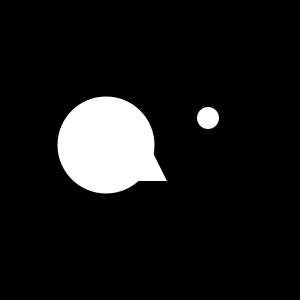rectangle: (58, 96, 154, 194), (197, 107, 219, 129)
triangle: (119, 133, 167, 181)
